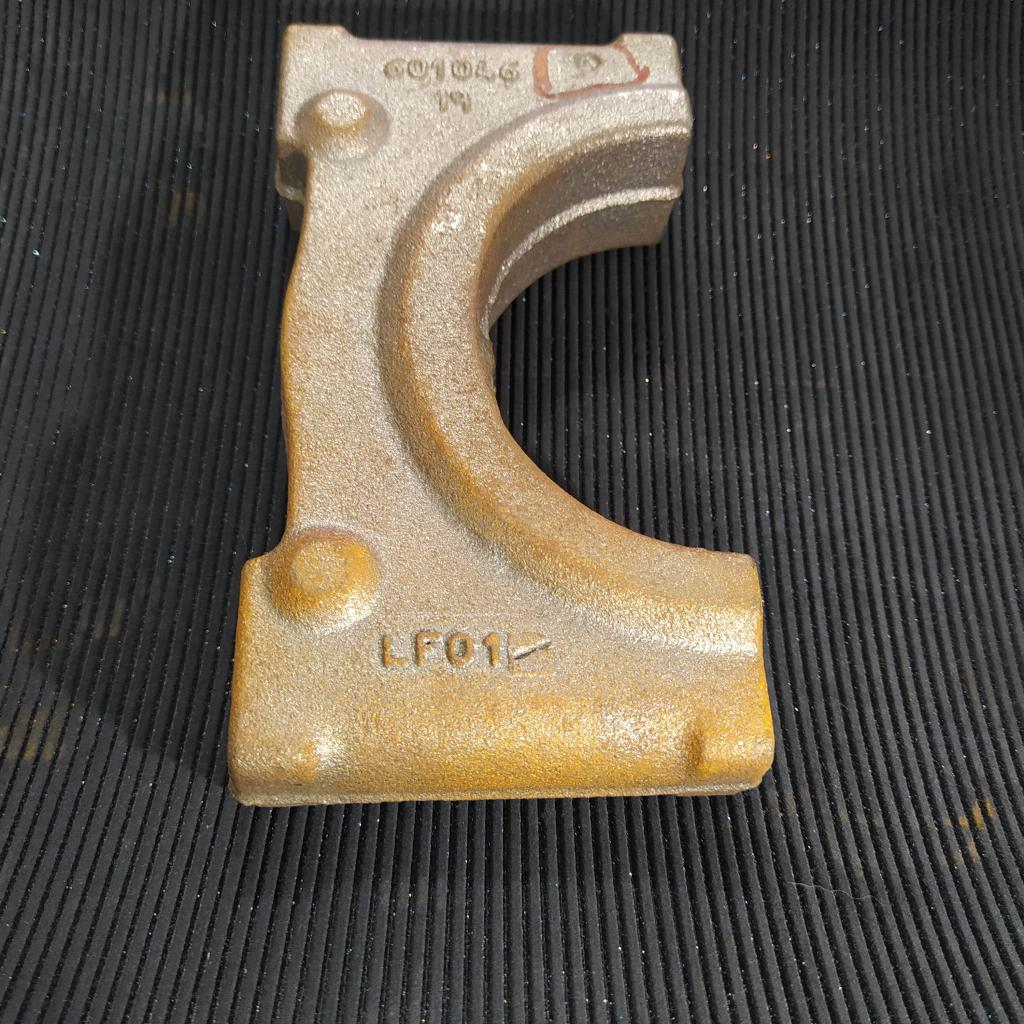buraco: (570, 48, 605, 78)
